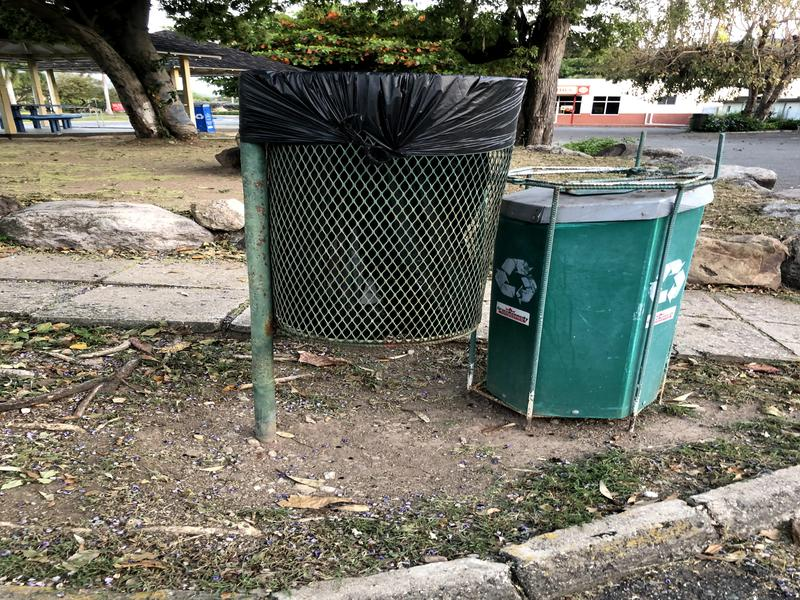18.0053245_-76.7486424_recyclebin: (475, 147, 739, 425)
